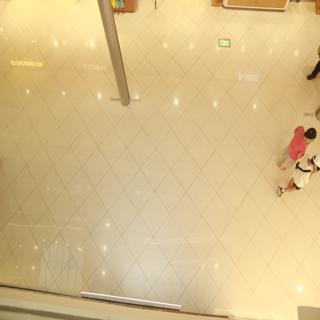person: (274, 154, 320, 204), (279, 124, 316, 161)
